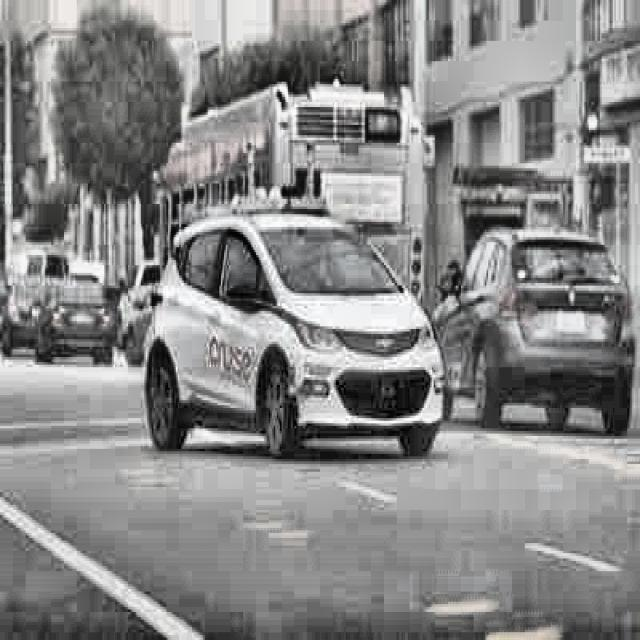license_plate: (556, 306, 586, 336)
